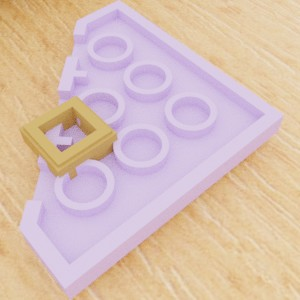lego: (19, 0, 284, 300), (18, 95, 118, 189)
